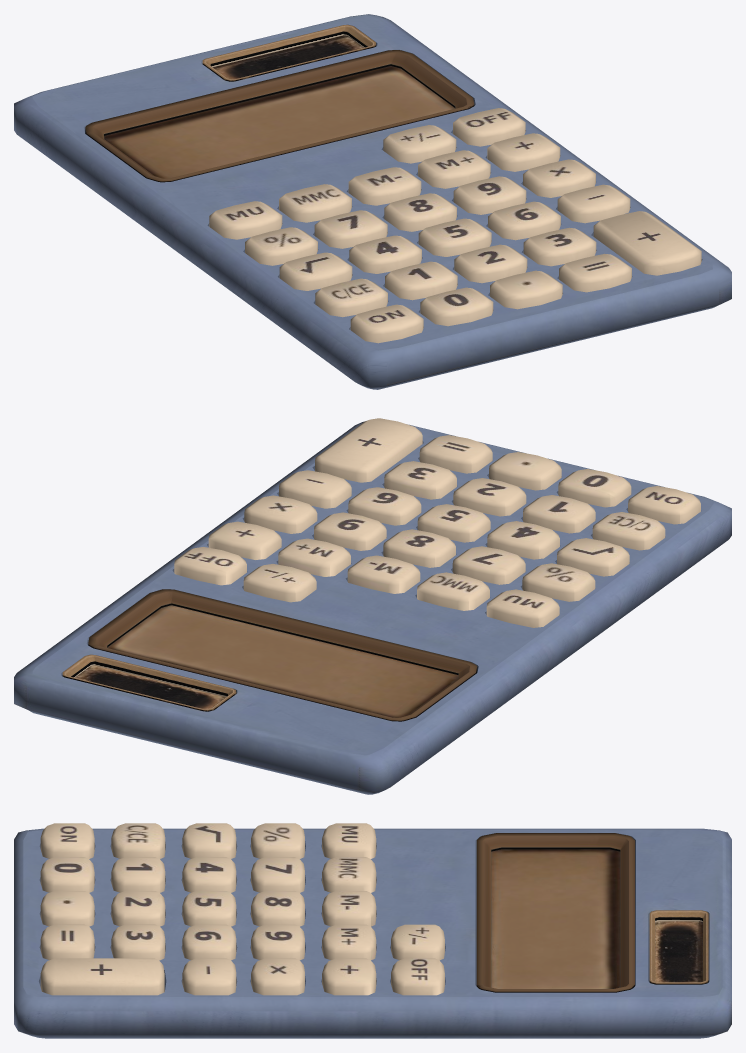
The model's file is Calculadora.glb.
The picture shows the model from 3 angles, top to bottom: view 1: azimuth 30°, elevation 25°; view 2: azimuth 150°, elevation 25°; view 3: azimuth 270°, elevation 25°; orthographic projection.
Parts seen in each view (by area): view 1: Calculator; view 2: Calculator; view 3: Calculator.
Boxes of the visible parts, box(x1,y1,x2,y2) form: Calculator: box(14, 14, 731, 389); Calculator: box(14, 418, 731, 794); Calculator: box(14, 823, 731, 1038).
Size of the model in its own units: 0.0701 by 0.00928 by 0.117.
1 material, 1 textured.
